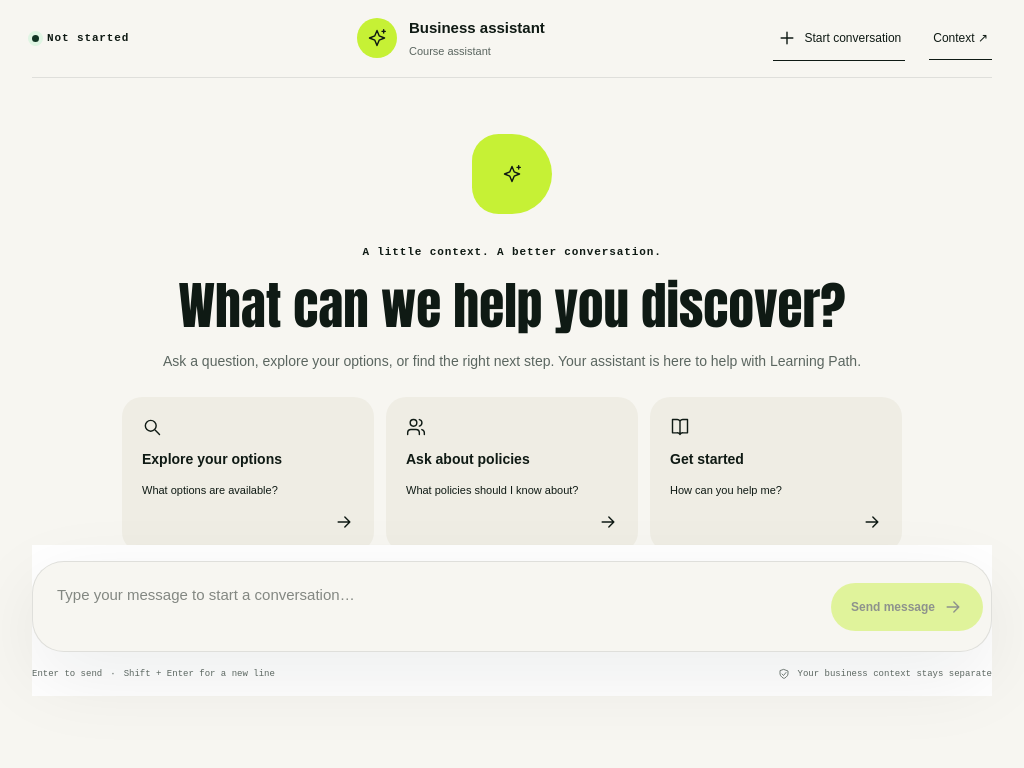
chat accepts a first message, creates one session and sends once
The width and height of the screenshot is (1024, 768).
Type "Find Python courses" into the text box labelled "message".
click(428, 606); type("Find Python courses")  # box left=41, top=570, right=815, bottom=643
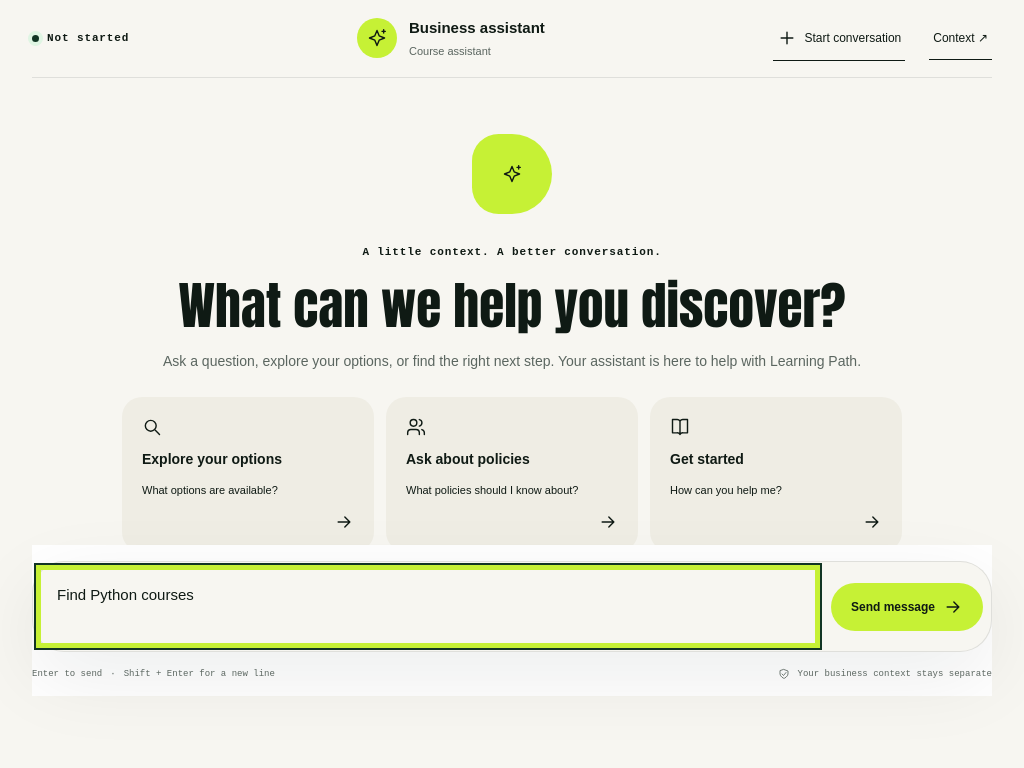
Click the button "Send message".
click(907, 606)  # box left=831, top=582, right=983, bottom=630
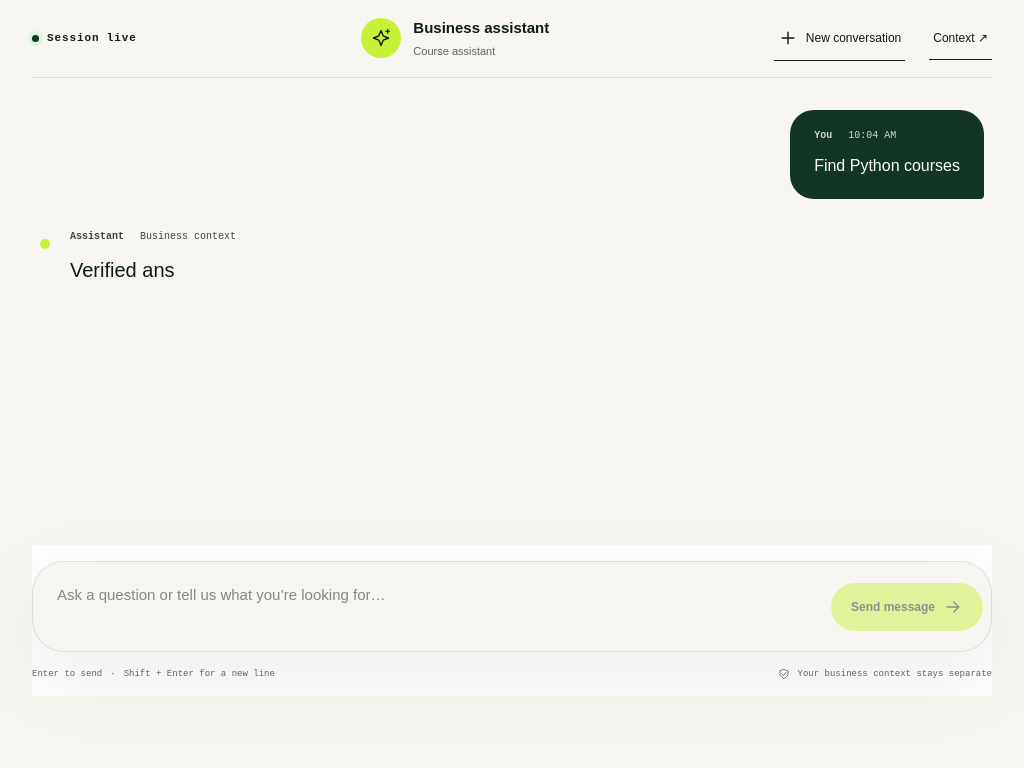
Now the text "Find Python courses" is shown, box left=814, top=153, right=960, bottom=179
